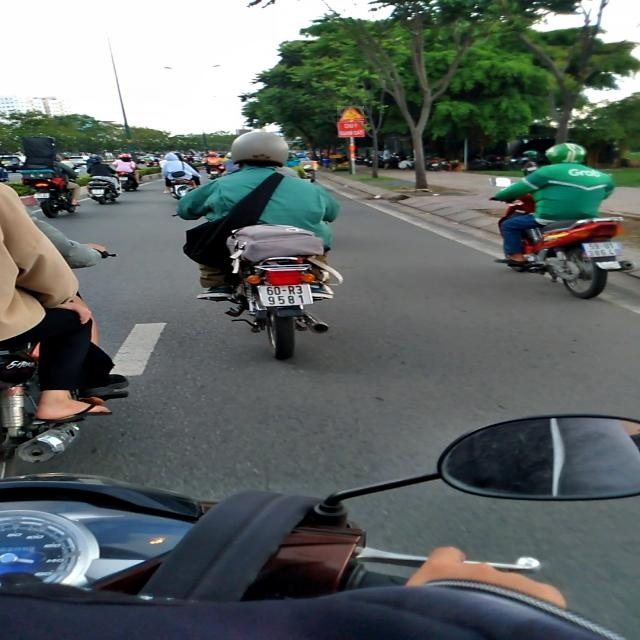bien_cam: (337, 106, 364, 122)
